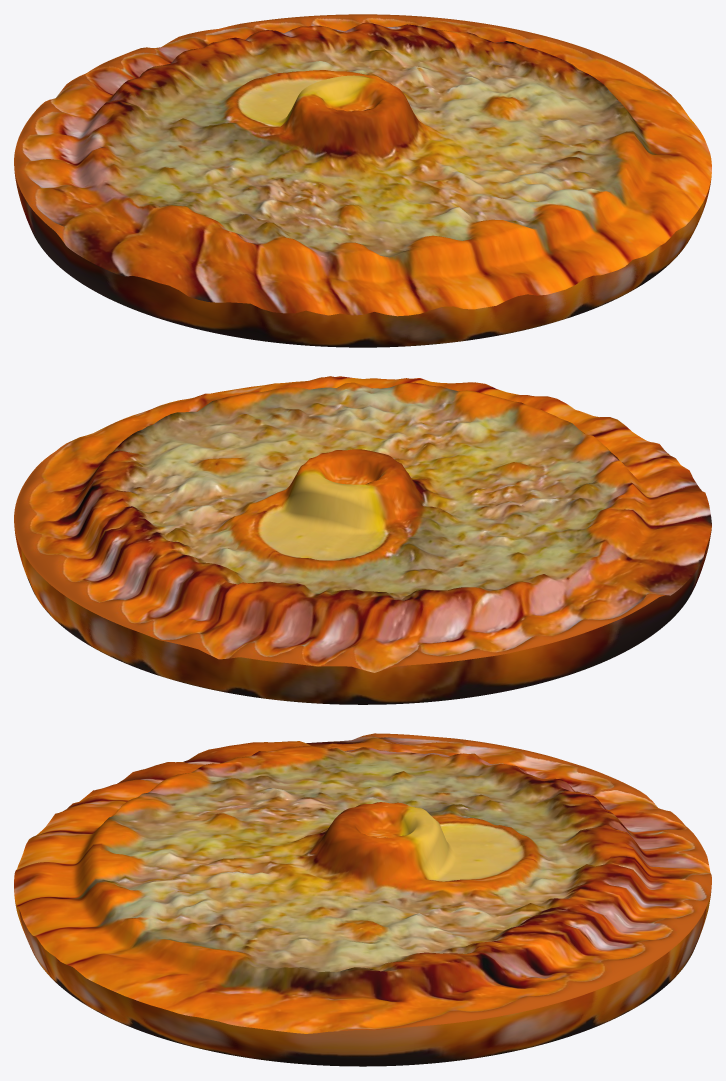
File: ugos.glb
The picture shows the model from 3 angles, top to bottom: view 1: azimuth 30°, elevation 25°; view 2: azimuth 150°, elevation 25°; view 3: azimuth 270°, elevation 25°; orthographic projection.
Parts seen in each view (by area): view 1: Ugo's; view 2: Ugo's; view 3: Ugo's.
Boxes of the visible parts, box(x1,y1,x2,y2) form: Ugo's: box(14, 14, 711, 347); Ugo's: box(14, 376, 711, 704); Ugo's: box(14, 733, 711, 1066).
Bounding box in the file's own units: 0.36 × 0.0574 × 0.36.
2 materials, 2 textured.
